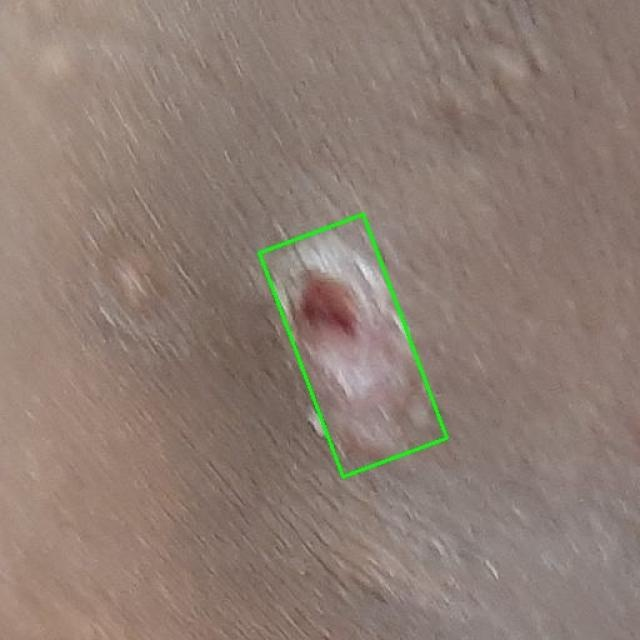Eczema: (260, 214, 447, 476)
